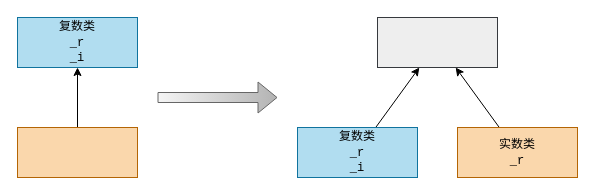
Some shapes in this 595 by 195 pixel diagram are drawn without their labels. Each missing label, with the centre of its shape:
"实数类 _r _i" goes at point 77,152.
"抽象复数基类 _r" goes at point 437,42.
